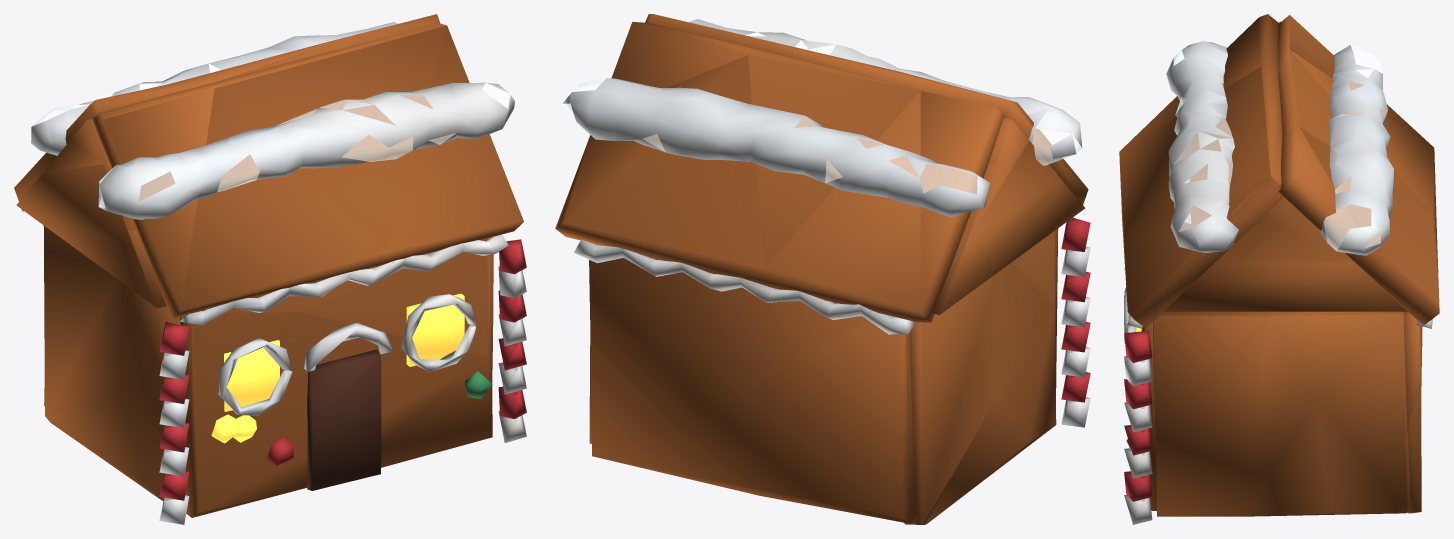
File: frost_gingerbread_house_lod2.glb
3 views of the same model, side by side, from view 1: azimuth 30°, elevation 25°; view 2: azimuth 150°, elevation 25°; view 3: azimuth 270°, elevation 25° (orthographic). The views are drawn at different scales.
Parts seen in each view (by area): view 1: frost_gingerbread_house.001; view 2: frost_gingerbread_house.001; view 3: frost_gingerbread_house.001.
Part boxes in pixels (box(x1,y1,x2,y2)): frost_gingerbread_house.001: box(14, 14, 526, 524); frost_gingerbread_house.001: box(555, 14, 1090, 524); frost_gingerbread_house.001: box(1119, 14, 1439, 524).
Bounding box in the file's own units: 16.17 × 13.78 × 11.3.
